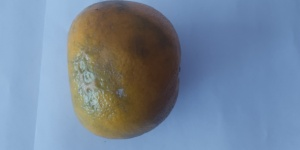BAD: (65, 2, 183, 138)
